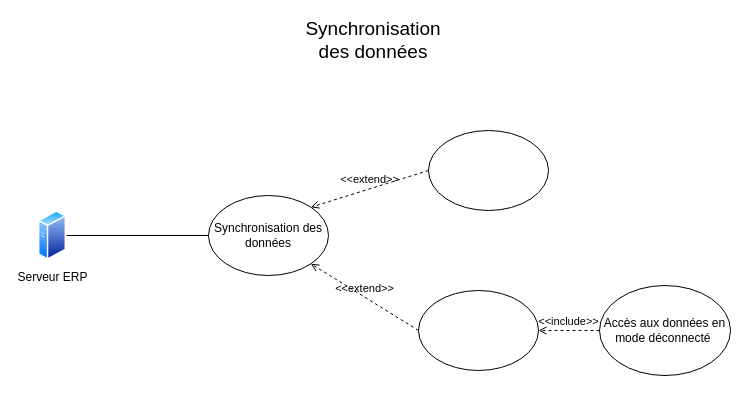
The diagram is 748 pixels wide and 393 high, and some of its shapes have lost their labels. The shapes that lost their labels are listed below. From the top down, each one's centre as x and y in pixels, then its label:
At pixel 488 170: "Enregistrer les données sur une BD locale".
At pixel 478 330: "Synchronisation en mode connecté".
